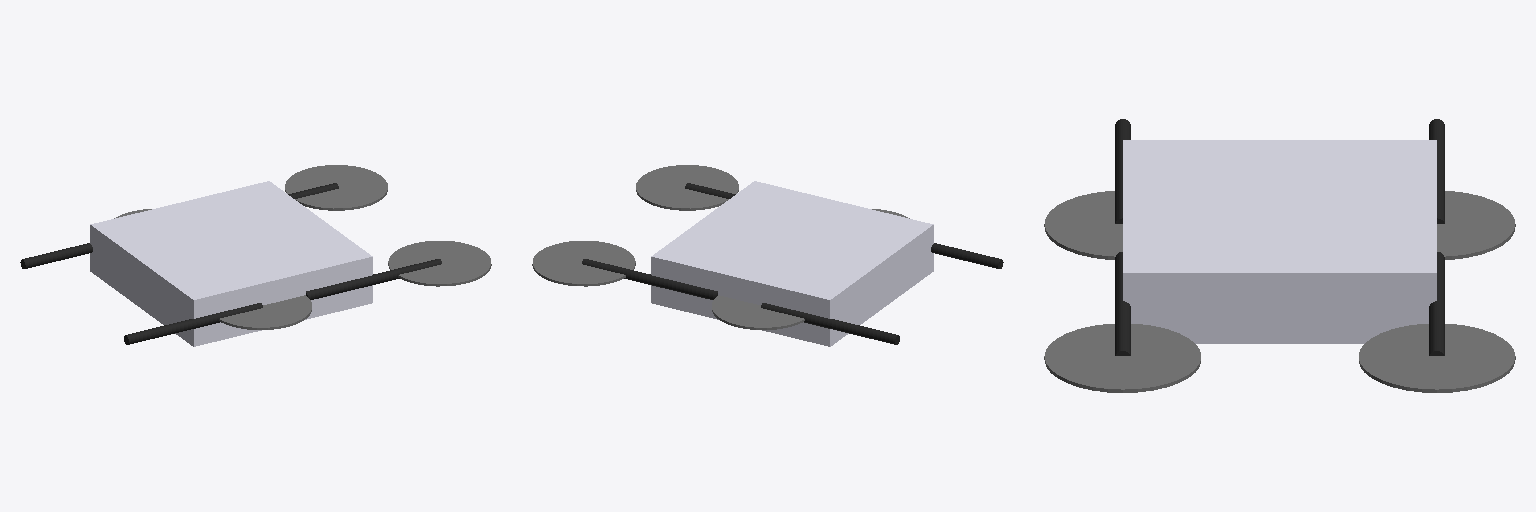
The robot description file, URDF, robot "murca_utp_a":
<?xml version="1.0" ?>
<!-- =================================================================================== -->
<!-- |    This document was autogenerated by xacro from urdf/aerial_platform.urdf.xacro | -->
<!-- |    EDITING THIS FILE BY HAND IS NOT RECOMMENDED                                 | -->
<!-- =================================================================================== -->
<!-- MuRKA UTP-A: Aerial platform (quadrotor) with 1 gimbal slot.
     Lightweight quadrotor for scouting and aerial spraying.
-->
<robot name="murca_utp_a">
  <!-- ──── Base body ──── -->
  <link name="utp_a_01/base_link">
    <visual>
      <geometry>
        <box size="0.4 0.4 0.1"/>
      </geometry>
      <material name="aerial_white">
        <color rgba="0.9 0.9 0.95 1"/>
      </material>
    </visual>
    <collision>
      <geometry>
        <box size="0.4 0.4 0.1"/>
      </geometry>
    </collision>
    <inertial>
      <mass value="3.0"/>
      <inertia ixx="0.05" ixy="0" ixz="0" iyy="0.05" iyz="0" izz="0.09"/>
    </inertial>
  </link>
  <link name="utp_a_01/base_footprint"/>
  <joint name="utp_a_01/base_footprint_joint" type="fixed">
    <parent link="utp_a_01/base_footprint"/>
    <child link="utp_a_01/base_link"/>
    <origin xyz="0 0 0"/>
  </joint>
  <link name="utp_a_01/arm_fl_link">
    <visual>
      <geometry>
        <cylinder length="0.3" radius="0.01"/>
      </geometry>
      <material name="arm_dark">
        <color rgba="0.2 0.2 0.2 1"/>
      </material>
    </visual>
    <inertial>
      <mass value="0.05"/>
      <inertia ixx="1e-4" ixy="0" ixz="0" iyy="1e-4" iyz="0" izz="1e-5"/>
    </inertial>
  </link>
  <joint name="utp_a_01/arm_fl_joint" type="fixed">
    <parent link="utp_a_01/base_link"/>
    <child link="utp_a_01/arm_fl_link"/>
    <origin rpy="0 1.5708 0" xyz="0.2 0.2 0"/>
  </joint>
  <!-- Propeller -->
  <link name="utp_a_01/arm_fl_propeller">
    <visual>
      <geometry>
        <cylinder length="0.005" radius="0.1"/>
      </geometry>
      <material name="prop_grey">
        <color rgba="0.5 0.5 0.5 0.7"/>
      </material>
    </visual>
    <inertial>
      <mass value="0.02"/>
      <inertia ixx="1e-5" ixy="0" ixz="0" iyy="1e-5" iyz="0" izz="2e-5"/>
    </inertial>
  </link>
  <joint name="utp_a_01/arm_fl_propeller_joint" type="continuous">
    <parent link="utp_a_01/arm_fl_link"/>
    <child link="utp_a_01/arm_fl_propeller"/>
    <origin rpy="0 -1.5708 0" xyz="0 0 0.15"/>
    <axis xyz="0 0 1"/>
  </joint>
  <link name="utp_a_01/arm_fr_link">
    <visual>
      <geometry>
        <cylinder length="0.3" radius="0.01"/>
      </geometry>
      <material name="arm_dark">
        <color rgba="0.2 0.2 0.2 1"/>
      </material>
    </visual>
    <inertial>
      <mass value="0.05"/>
      <inertia ixx="1e-4" ixy="0" ixz="0" iyy="1e-4" iyz="0" izz="1e-5"/>
    </inertial>
  </link>
  <joint name="utp_a_01/arm_fr_joint" type="fixed">
    <parent link="utp_a_01/base_link"/>
    <child link="utp_a_01/arm_fr_link"/>
    <origin rpy="0 1.5708 0" xyz="0.2 -0.2 0"/>
  </joint>
  <!-- Propeller -->
  <link name="utp_a_01/arm_fr_propeller">
    <visual>
      <geometry>
        <cylinder length="0.005" radius="0.1"/>
      </geometry>
      <material name="prop_grey">
        <color rgba="0.5 0.5 0.5 0.7"/>
      </material>
    </visual>
    <inertial>
      <mass value="0.02"/>
      <inertia ixx="1e-5" ixy="0" ixz="0" iyy="1e-5" iyz="0" izz="2e-5"/>
    </inertial>
  </link>
  <joint name="utp_a_01/arm_fr_propeller_joint" type="continuous">
    <parent link="utp_a_01/arm_fr_link"/>
    <child link="utp_a_01/arm_fr_propeller"/>
    <origin rpy="0 -1.5708 0" xyz="0 0 0.15"/>
    <axis xyz="0 0 1"/>
  </joint>
  <link name="utp_a_01/arm_rl_link">
    <visual>
      <geometry>
        <cylinder length="0.3" radius="0.01"/>
      </geometry>
      <material name="arm_dark">
        <color rgba="0.2 0.2 0.2 1"/>
      </material>
    </visual>
    <inertial>
      <mass value="0.05"/>
      <inertia ixx="1e-4" ixy="0" ixz="0" iyy="1e-4" iyz="0" izz="1e-5"/>
    </inertial>
  </link>
  <joint name="utp_a_01/arm_rl_joint" type="fixed">
    <parent link="utp_a_01/base_link"/>
    <child link="utp_a_01/arm_rl_link"/>
    <origin rpy="0 1.5708 0" xyz="-0.2 0.2 0"/>
  </joint>
  <!-- Propeller -->
  <link name="utp_a_01/arm_rl_propeller">
    <visual>
      <geometry>
        <cylinder length="0.005" radius="0.1"/>
      </geometry>
      <material name="prop_grey">
        <color rgba="0.5 0.5 0.5 0.7"/>
      </material>
    </visual>
    <inertial>
      <mass value="0.02"/>
      <inertia ixx="1e-5" ixy="0" ixz="0" iyy="1e-5" iyz="0" izz="2e-5"/>
    </inertial>
  </link>
  <joint name="utp_a_01/arm_rl_propeller_joint" type="continuous">
    <parent link="utp_a_01/arm_rl_link"/>
    <child link="utp_a_01/arm_rl_propeller"/>
    <origin rpy="0 -1.5708 0" xyz="0 0 0.15"/>
    <axis xyz="0 0 1"/>
  </joint>
  <link name="utp_a_01/arm_rr_link">
    <visual>
      <geometry>
        <cylinder length="0.3" radius="0.01"/>
      </geometry>
      <material name="arm_dark">
        <color rgba="0.2 0.2 0.2 1"/>
      </material>
    </visual>
    <inertial>
      <mass value="0.05"/>
      <inertia ixx="1e-4" ixy="0" ixz="0" iyy="1e-4" iyz="0" izz="1e-5"/>
    </inertial>
  </link>
  <joint name="utp_a_01/arm_rr_joint" type="fixed">
    <parent link="utp_a_01/base_link"/>
    <child link="utp_a_01/arm_rr_link"/>
    <origin rpy="0 1.5708 0" xyz="-0.2 -0.2 0"/>
  </joint>
  <!-- Propeller -->
  <link name="utp_a_01/arm_rr_propeller">
    <visual>
      <geometry>
        <cylinder length="0.005" radius="0.1"/>
      </geometry>
      <material name="prop_grey">
        <color rgba="0.5 0.5 0.5 0.7"/>
      </material>
    </visual>
    <inertial>
      <mass value="0.02"/>
      <inertia ixx="1e-5" ixy="0" ixz="0" iyy="1e-5" iyz="0" izz="2e-5"/>
    </inertial>
  </link>
  <joint name="utp_a_01/arm_rr_propeller_joint" type="continuous">
    <parent link="utp_a_01/arm_rr_link"/>
    <child link="utp_a_01/arm_rr_propeller"/>
    <origin rpy="0 -1.5708 0" xyz="0 0 0.15"/>
    <axis xyz="0 0 1"/>
  </joint>
  <!-- ──── Gimbal slot ──── -->
  <link name="utp_a_01/gimbal_link">
    <visual>
      <geometry>
        <box size="0.06 0.06 0.04"/>
      </geometry>
      <material name="gimbal_dark">
        <color rgba="0.15 0.15 0.15 1"/>
      </material>
    </visual>
    <inertial>
      <mass value="0.15"/>
      <inertia ixx="1e-5" ixy="0" ixz="0" iyy="1e-5" iyz="0" izz="1e-5"/>
    </inertial>
  </link>
  <joint name="utp_a_01/gimbal_joint" type="fixed">
    <parent link="utp_a_01/base_link"/>
    <child link="utp_a_01/gimbal_link"/>
    <origin xyz="0 0 -0.07"/>
  </joint>
  <!-- ──── IMU ──── -->
  <link name="utp_a_01/imu_link">
    <inertial>
      <mass value="0.01"/>
      <inertia ixx="1e-6" ixy="0" ixz="0" iyy="1e-6" iyz="0" izz="1e-6"/>
    </inertial>
  </link>
  <joint name="utp_a_01/imu_joint" type="fixed">
    <parent link="utp_a_01/base_link"/>
    <child link="utp_a_01/imu_link"/>
    <origin xyz="0 0 0"/>
  </joint>
  <!-- ──── GPS ──── -->
  <link name="utp_a_01/gps_link">
    <inertial>
      <mass value="0.01"/>
      <inertia ixx="1e-6" ixy="0" ixz="0" iyy="1e-6" iyz="0" izz="1e-6"/>
    </inertial>
  </link>
  <joint name="utp_a_01/gps_joint" type="fixed">
    <parent link="utp_a_01/base_link"/>
    <child link="utp_a_01/gps_link"/>
    <origin xyz="0 0 0.05"/>
  </joint>
  <link name="utp_a_01/camera_link">
    <visual>
      <geometry>
        <box size="0.04 0.04 0.02"/>
      </geometry>
      <material name="cam_black">
        <color rgba="0.1 0.1 0.1 1"/>
      </material>
    </visual>
    <inertial>
      <mass value="0.05"/>
      <inertia ixx="1e-6" ixy="0" ixz="0" iyy="1e-6" iyz="0" izz="1e-6"/>
    </inertial>
  </link>
  <joint name="utp_a_01/camera_joint" type="fixed">
    <parent link="utp_a_01/gimbal_link"/>
    <child link="utp_a_01/camera_link"/>
    <origin rpy="0 1.5708 0" xyz="0 0 -0.03"/>
  </joint>
  <link name="utp_a_01/camera_optical_frame"/>
  <joint name="utp_a_01/camera_optical_joint" type="fixed">
    <parent link="utp_a_01/camera_link"/>
    <child link="utp_a_01/camera_optical_frame"/>
    <origin rpy="-1.5708 0 -1.5708" xyz="0 0 0"/>
  </joint>
</robot>

--- Render facts (derived) ---
The picture shows the robot from 3 angles, left to right: view 1: azimuth 30°, elevation 25°; view 2: azimuth 150°, elevation 25°; view 3: azimuth 270°, elevation 25°; orthographic projection.
Model murca_utp_a with 15 links and 14 joints (4 continuous, 10 fixed), rooted at utp_a_01/base_footprint, posed all joints at 0.
Links seen in each view (by area): view 1: utp_a_01/base_link, utp_a_01/arm_fr_propeller, utp_a_01/arm_fl_propeller, utp_a_01/arm_rr_propeller, utp_a_01/arm_rr_link, utp_a_01/arm_fr_link, utp_a_01/arm_rl_link; view 2: utp_a_01/base_link, utp_a_01/arm_fl_propeller, utp_a_01/arm_fr_propeller, utp_a_01/arm_rl_propeller, utp_a_01/arm_rl_link, utp_a_01/arm_fl_link, utp_a_01/arm_rr_link; view 3: utp_a_01/base_link, utp_a_01/arm_fl_propeller, utp_a_01/arm_fr_propeller, utp_a_01/arm_rl_propeller, utp_a_01/arm_rr_propeller, utp_a_01/arm_fl_link, utp_a_01/arm_fr_link, utp_a_01/arm_rl_link, utp_a_01/arm_rr_link.
Link boxes in pixels (x1,y1,x2,y2): utp_a_01/base_link: (90, 181, 372, 346); utp_a_01/arm_fr_propeller: (388, 241, 491, 286); utp_a_01/arm_fl_propeller: (285, 165, 387, 210); utp_a_01/arm_rr_propeller: (219, 295, 311, 329); utp_a_01/arm_rr_link: (124, 303, 262, 344); utp_a_01/arm_fr_link: (306, 259, 441, 299); utp_a_01/arm_rl_link: (20, 243, 92, 268); utp_a_01/base_link: (651, 181, 933, 346); utp_a_01/arm_fl_propeller: (532, 241, 635, 286); utp_a_01/arm_fr_propeller: (636, 165, 738, 210); utp_a_01/arm_rl_propeller: (712, 295, 804, 329); utp_a_01/arm_rl_link: (761, 303, 899, 344); utp_a_01/arm_fl_link: (582, 259, 717, 299); utp_a_01/arm_rr_link: (931, 243, 1003, 268); utp_a_01/base_link: (1123, 140, 1436, 343); utp_a_01/arm_fl_propeller: (1359, 324, 1515, 392); utp_a_01/arm_fr_propeller: (1044, 324, 1200, 392); utp_a_01/arm_rl_propeller: (1437, 191, 1515, 259); utp_a_01/arm_rr_propeller: (1044, 191, 1122, 259); utp_a_01/arm_fl_link: (1429, 252, 1444, 355); utp_a_01/arm_fr_link: (1115, 252, 1130, 355); utp_a_01/arm_rl_link: (1429, 119, 1444, 223); utp_a_01/arm_rr_link: (1115, 119, 1130, 223).
Bounding box of the posed robot: 0.8 × 0.6 × 0.17 m (x, y, z).
Geometry: primitives only (box / cylinder / sphere), no mesh files.
